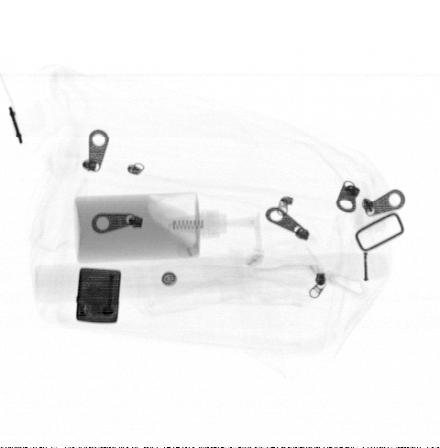Lighter: (75, 268, 121, 323)
